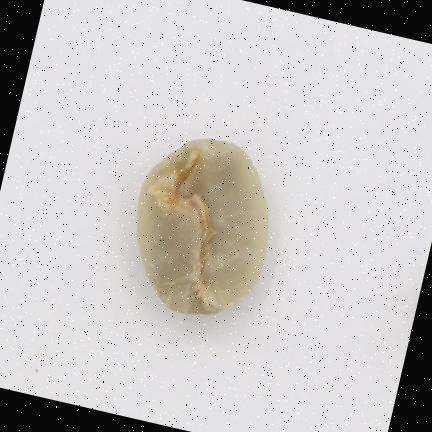shell: (138, 139, 268, 314)
